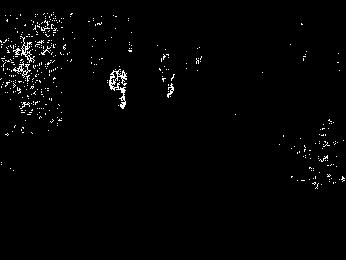person: (109, 67, 127, 109), (159, 52, 175, 99)
